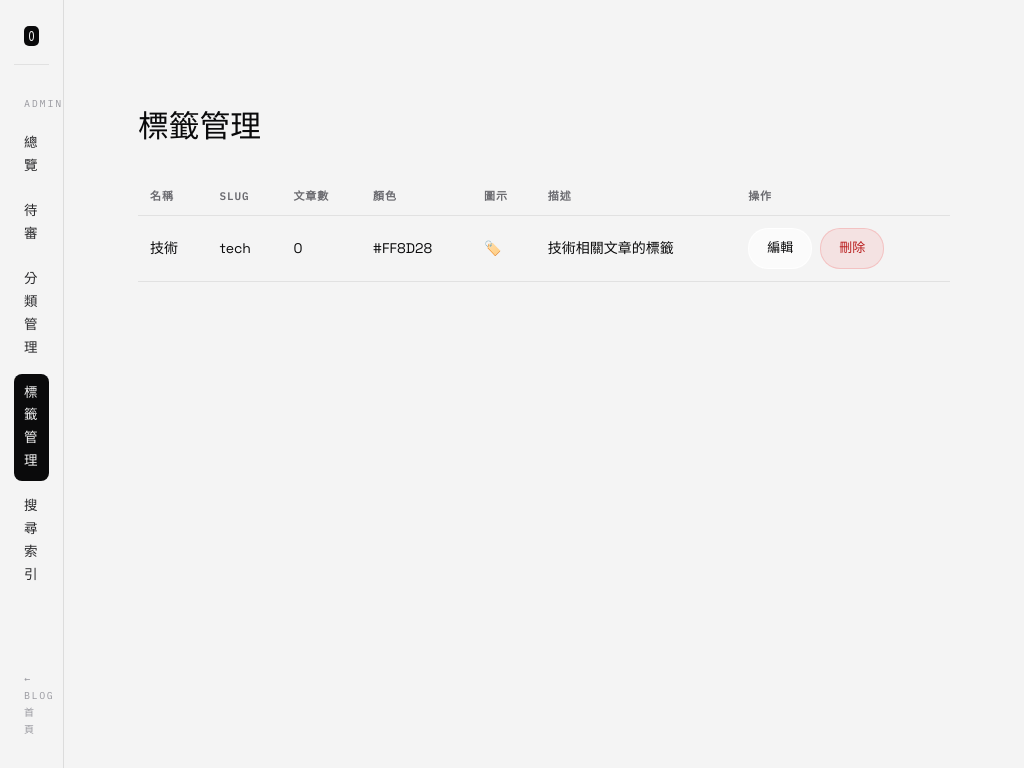
AdminTagsView › 刪除標籤 › 點「取消」不呼叫 API 且關閉對話框
The width and height of the screenshot is (1024, 768).
Click the button with test id "admin-tags-delete-tag-uuid-2" at (852, 249), box [820,228,884,269]
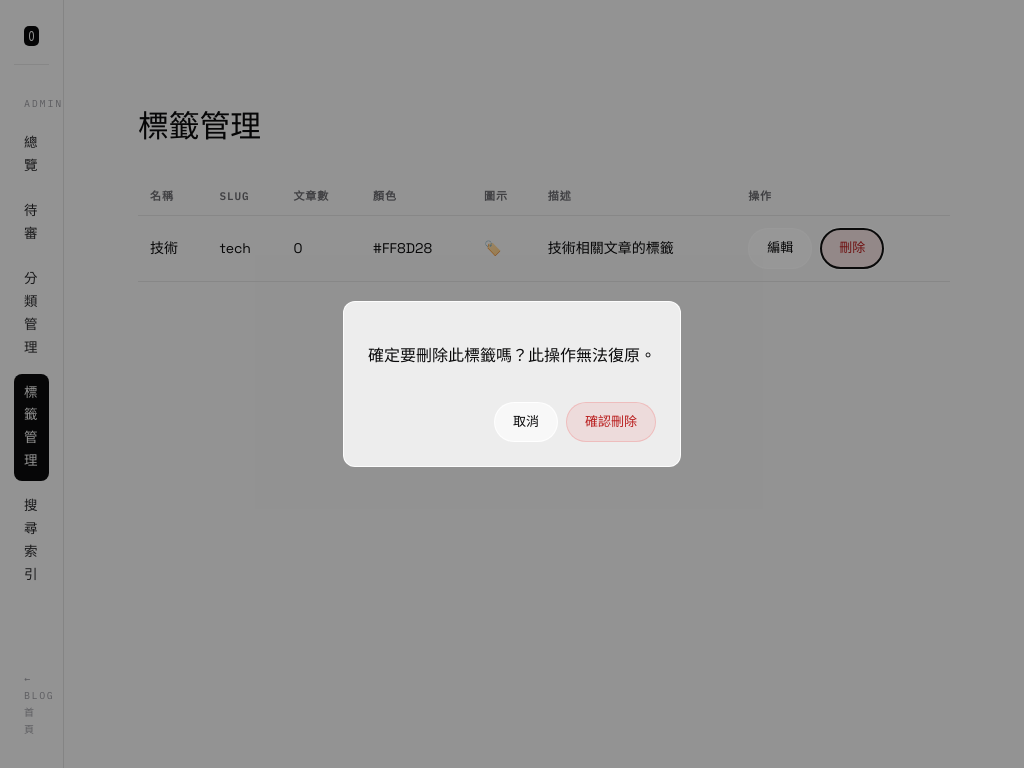
Click the button with test id "admin-tags-delete-cancel" at (526, 422), box [494,402,558,442]
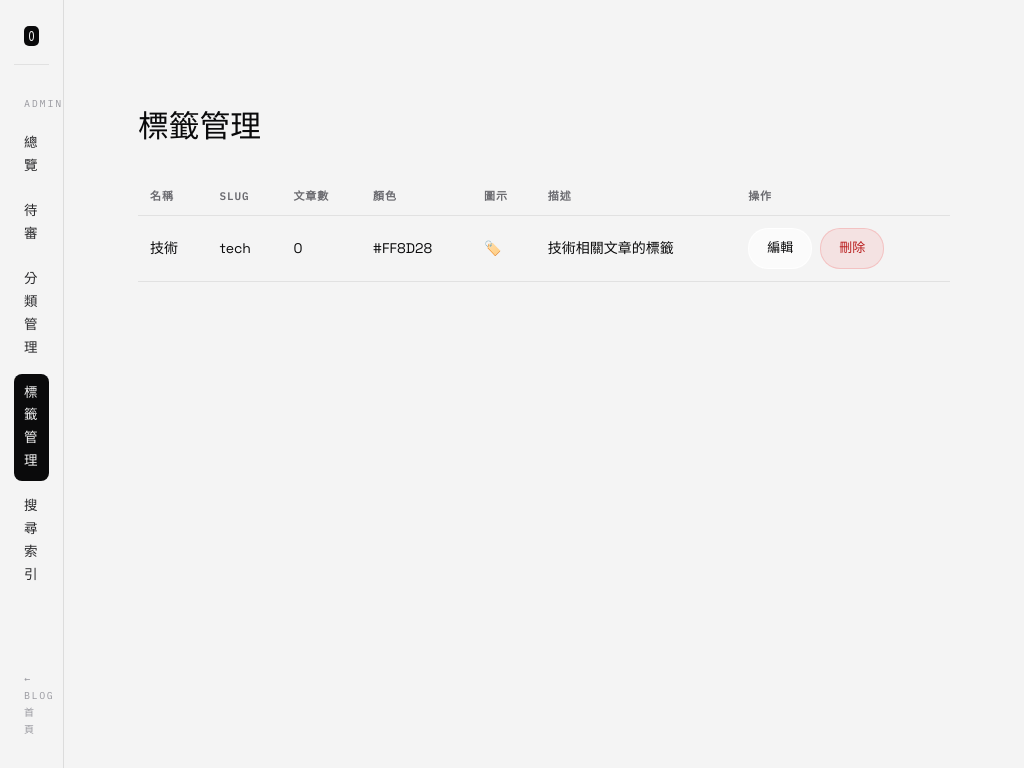
Expected: the element with test id "admin-tags-delete-confirm" is gone
